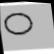no answer: (1, 9, 35, 38)
